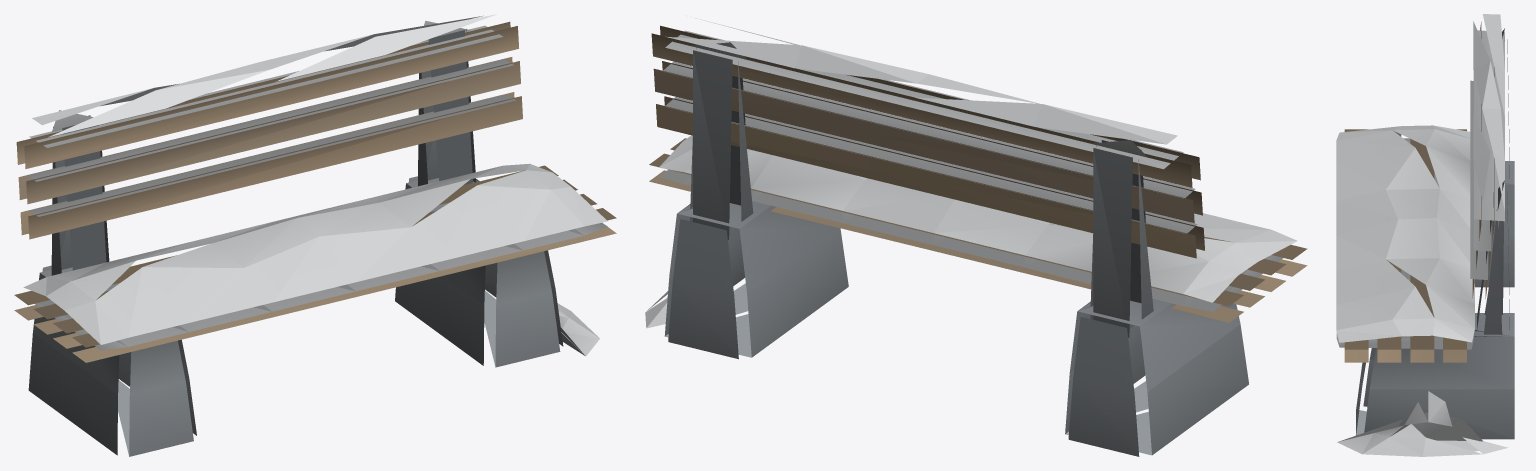
Rendered from bench.lod.glb.
3 views of the same model, side by side, from view 1: azimuth 30°, elevation 25°; view 2: azimuth 150°, elevation 25°; view 3: azimuth 270°, elevation 25° (orthographic). The views are drawn at different scales.
Visible parts, largest first — view 1: bench.001; view 2: bench.001; view 3: bench.001.
Boxes of the visible parts, box(x1,y1,x2,y2) form: bench.001: box(14, 14, 616, 456); bench.001: box(645, 18, 1307, 456); bench.001: box(1336, 14, 1514, 456).
Size of the model in its own units: 2 by 1.02 by 0.7125.
